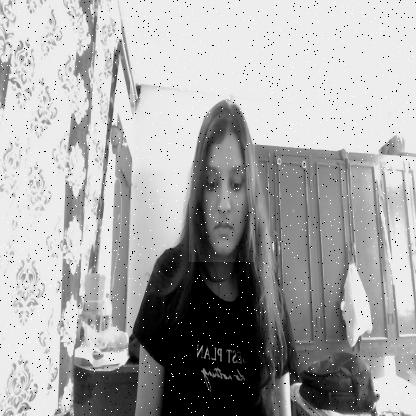Normal: (189, 101, 255, 262)
